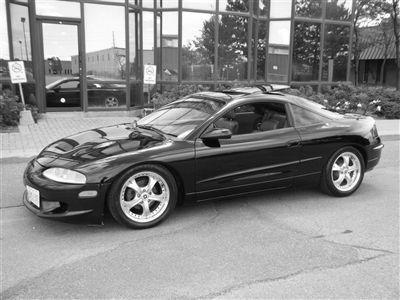car: (23, 91, 382, 234)
